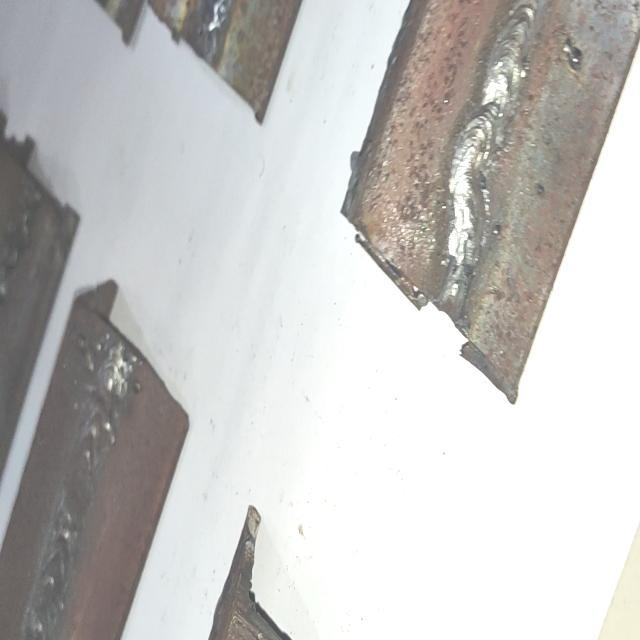Defect: (23, 352, 143, 640)
Welding Line: (16, 344, 136, 640), (429, 0, 546, 301)
Workpiece: (340, 0, 640, 395), (0, 274, 201, 640)
